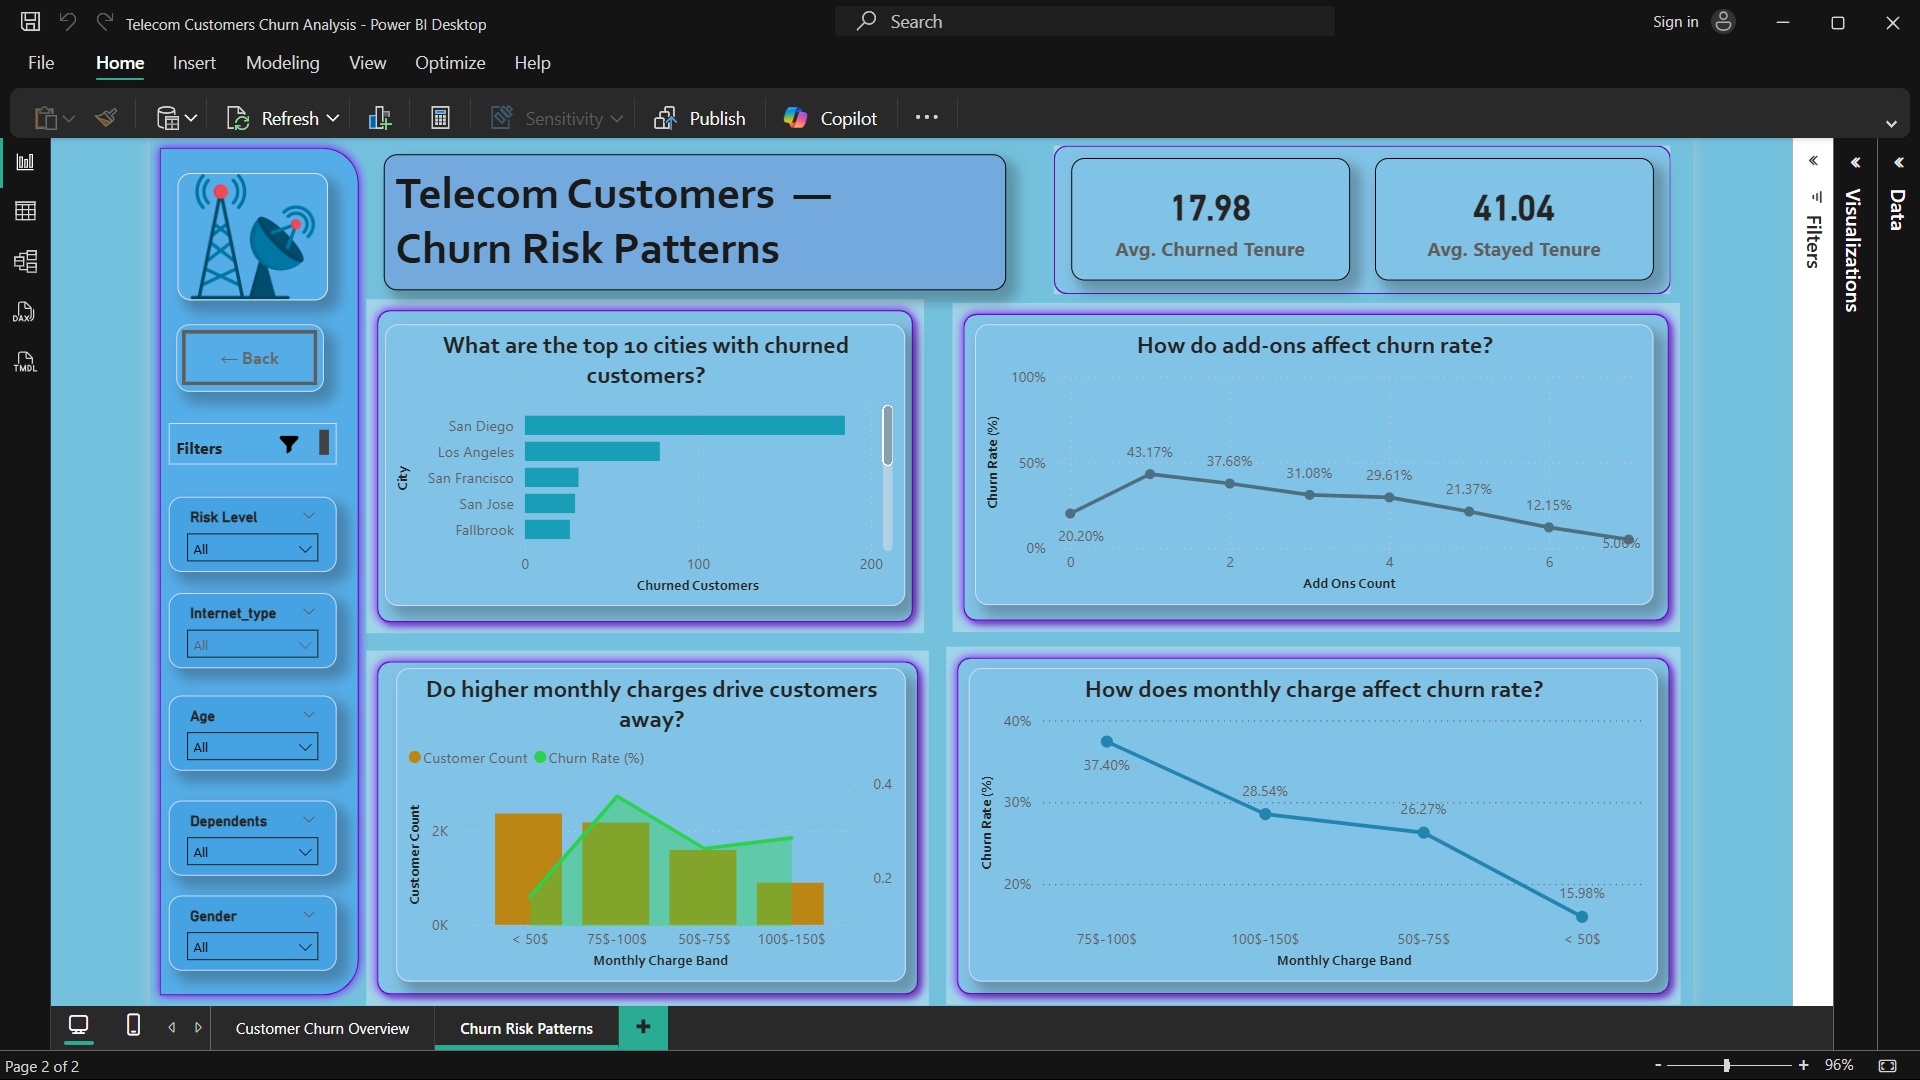

This screenshot's page, from the dashboard's own definition file:
{"tool":"powerbi","page":{"name":"Churn Risk Patterns","canvas":[1280,720],"ordinal":1},"visuals":[{"type":"shape","box":[0,0,181.2,718.8],"z":0},{"type":"shape","box":[179.2,134.1,462.3,276.8],"z":0,"group":"g1"},{"type":"group","id":"g1","title":"Group 1","box":[179.2,6.5,1089.8,712.9],"z":1000},{"type":"shape","box":[665,136.8,602.9,272.5],"z":1000,"group":"g1"},{"type":"slicer","fields":{"Values":["risk_overview.Churn_risk_level"]},"box":[15.9,297.1,139.1,62.3],"z":2000},{"type":"shape","box":[179.2,425.2,466.7,294.2],"z":2000,"group":"g1"},{"type":"slicer","fields":{"Values":["telecom_customers_churn.Internet_type"]},"box":[15.9,376.8,139.1,62.3],"z":3000},{"type":"shape","box":[660.3,422.3,608.7,297.1],"z":3000,"group":"g1"},{"type":"shape","box":[748.7,6.5,511.6,123.2],"z":4000,"group":"g1"},{"type":"slicer","fields":{"Values":["telecom_customers_churn.Age"]},"box":[15.9,462.3,139.1,62.3],"z":4000},{"type":"slicer","fields":{"Values":["telecom_customers_churn.Dependents"]},"box":[15.9,549.3,139.1,62.3],"z":5000},{"type":"slicer","fields":{"Values":["telecom_customers_churn.Gender"]},"box":[15.9,627.5,139.1,62.3],"z":6000},{"type":"image","box":[23.2,29,124.6,105.8],"z":7000},{"type":"textbox","box":[15.9,236.2,139.1,34.8],"z":8000},{"type":"image","box":[83.1,244.2,64.9,18.2],"z":9000},{"type":"textbox","box":[194.2,13,515.9,113],"z":10000},{"type":"lineChart","title":" How does monthly charge affect churn rate?","fields":{"Category":["telecom_customers_churn.Monthly Charge Band"],"Y":["telecom_customers_churn.Churn_Rate %"]},"box":[679.2,439,571.4,259.7],"z":11000},{"type":"lineClusteredColumnComboChart","title":"Do higher monthly charges drive customers away?","fields":{"Category":["telecom_customers_churn.Monthly Charge Band"],"Y2":["telecom_customers_churn.Churn_Rate %"],"Y":["telecom_customers_churn.Customer Count"]},"box":[203.9,439,422.1,259.7],"z":12000},{"type":"lineChart","title":"How do add-ons affect churn rate?","fields":{"Category":["telecom_customers_churn.Add_On Count"],"Y":["telecom_customers_churn.Churn_Rate %"]},"box":[684.4,154.5,562.3,232.5],"z":13000},{"type":"barChart","title":"What are the top 10 cities with churned customers?","fields":{"Category":["telecom_customers_churn.City"],"Y":["telecom_customers_churn.Churned_Customers"]},"box":[194.8,154.5,431.2,233.8],"z":14000},{"type":"card","fields":{"Values":["Sum(kpi_cards_overview.Avg_tenure_churned)"]},"box":[763.6,16.9,231.2,101.3],"z":15000},{"type":"card","fields":{"Values":["Sum(kpi_cards_overview.Avg_tenure_stayed)"]},"box":[1015.6,16.9,231.2,101.3],"z":16000},{"type":"actionButton","box":[22.1,154.5,122.1,55.8],"z":17000}]}

Visuals, with their boxes on the page's 1280x720 design canvas (x1, y1, x2, y2). These are canvas units, not pixel positions in the 1920x1080 screenshot, which may show the page scaled, cropped or inside an application window:
shape: {"x1": 0, "y1": 0, "x2": 181, "y2": 719}
shape: {"x1": 179, "y1": 134, "x2": 642, "y2": 411}
"Group 1" group: {"x1": 179, "y1": 6, "x2": 1269, "y2": 719}
shape: {"x1": 665, "y1": 137, "x2": 1268, "y2": 409}
slicer - risk_overview.Churn_risk_level: {"x1": 16, "y1": 297, "x2": 155, "y2": 359}
shape: {"x1": 179, "y1": 425, "x2": 646, "y2": 719}
slicer - telecom_customers_churn.Internet_type: {"x1": 16, "y1": 377, "x2": 155, "y2": 439}
shape: {"x1": 660, "y1": 422, "x2": 1269, "y2": 719}
shape: {"x1": 749, "y1": 6, "x2": 1260, "y2": 130}
slicer - telecom_customers_churn.Age: {"x1": 16, "y1": 462, "x2": 155, "y2": 525}
slicer - telecom_customers_churn.Dependents: {"x1": 16, "y1": 549, "x2": 155, "y2": 612}
slicer - telecom_customers_churn.Gender: {"x1": 16, "y1": 628, "x2": 155, "y2": 690}
image: {"x1": 23, "y1": 29, "x2": 148, "y2": 135}
textbox: {"x1": 16, "y1": 236, "x2": 155, "y2": 271}
image: {"x1": 83, "y1": 244, "x2": 148, "y2": 262}
textbox: {"x1": 194, "y1": 13, "x2": 710, "y2": 126}
" How does monthly charge affect churn rate?" lineChart: {"x1": 679, "y1": 439, "x2": 1251, "y2": 699}
"Do higher monthly charges drive customers away?" lineClusteredColumnComboChart: {"x1": 204, "y1": 439, "x2": 626, "y2": 699}
"How do add-ons affect churn rate?" lineChart: {"x1": 684, "y1": 154, "x2": 1247, "y2": 387}
"What are the top 10 cities with churned customers?" barChart: {"x1": 195, "y1": 154, "x2": 626, "y2": 388}
card - Sum(kpi_cards_overview.Avg_tenure_churned): {"x1": 764, "y1": 17, "x2": 995, "y2": 118}
card - Sum(kpi_cards_overview.Avg_tenure_stayed): {"x1": 1016, "y1": 17, "x2": 1247, "y2": 118}
actionButton: {"x1": 22, "y1": 154, "x2": 144, "y2": 210}
